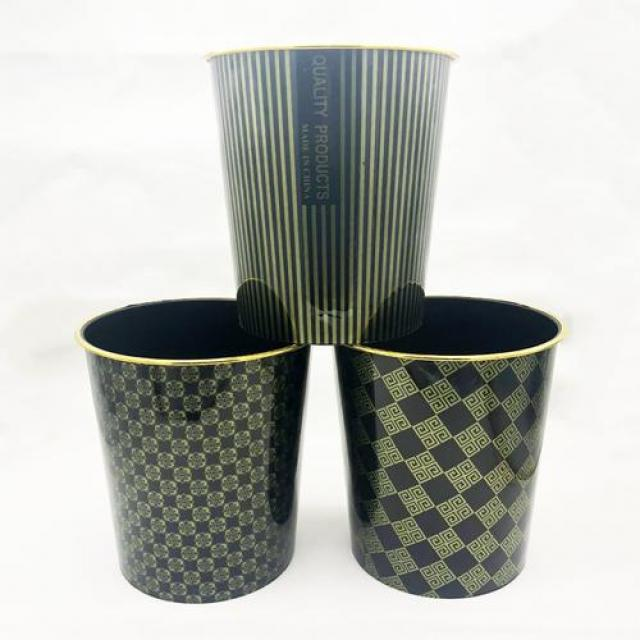Dustbin: (200, 39, 460, 345), (72, 292, 314, 608), (331, 292, 567, 602)
